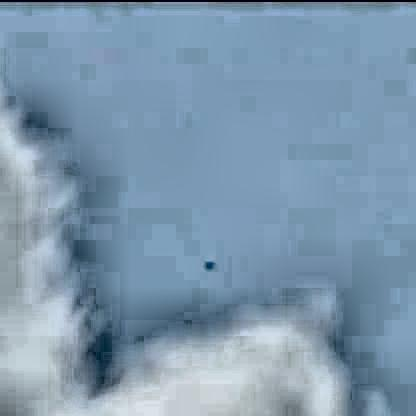golfball: (201, 258, 212, 268)
